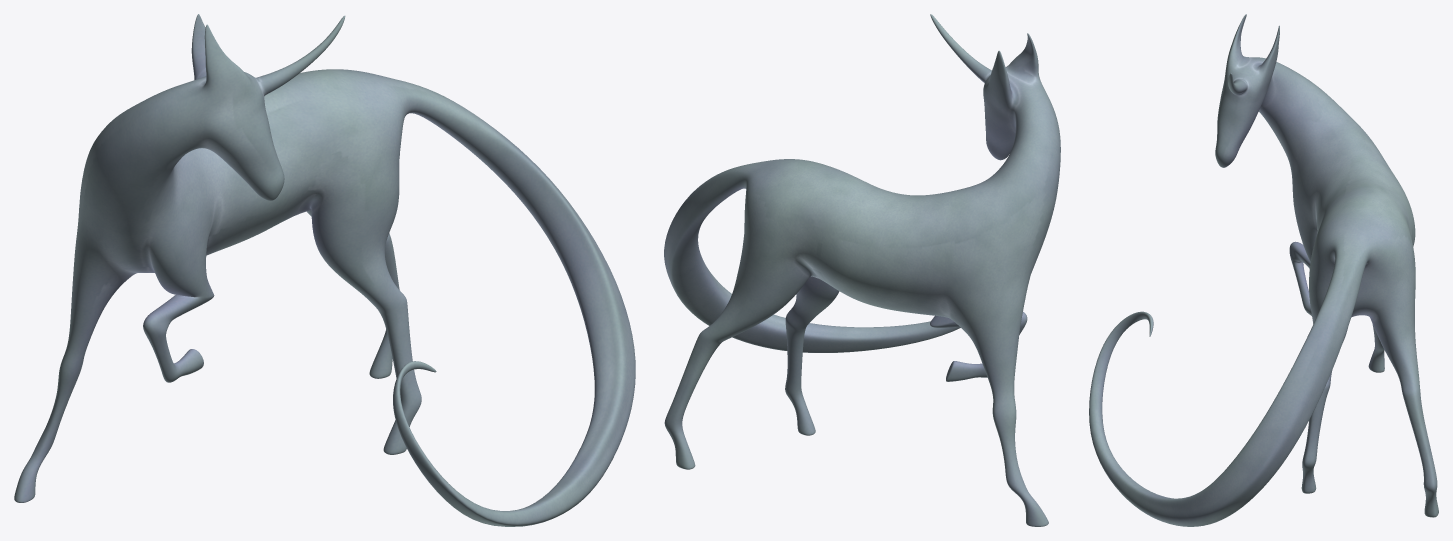
File: horse.glb
3 renders of one model, left to right at view 1: azimuth 30°, elevation 25°; view 2: azimuth 150°, elevation 25°; view 3: azimuth 270°, elevation 25°, orthographic. The views are drawn at different scales.
Parts seen in each view (by area): view 1: body; view 2: body; view 3: body.
Part boxes in pixels (x1,y1,x2,y2): body: [14, 14, 635, 526]; body: [664, 14, 1060, 526]; body: [1089, 14, 1438, 526].
Bounding box in the file's own units: 2.12 × 1.95 × 1.57.
1 material, 1 textured.
